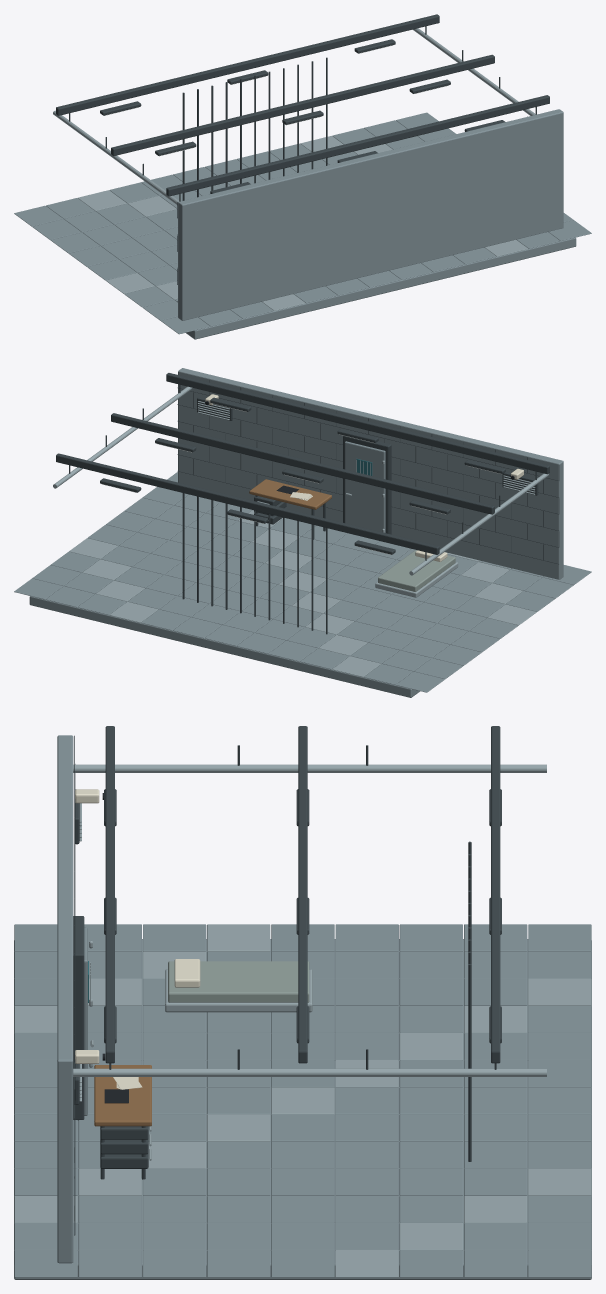
The model's file is cell.glb.
3 renders of one model, top to bottom at view 1: azimuth 30°, elevation 25°; view 2: azimuth 150°, elevation 25°; view 3: azimuth 270°, elevation 25°, orthographic. The views are drawn at different scales.
Parts seen in each view (by area): view 1: cell-blue painted masonry, cell-forged graphite steel, cell-galvanized edges; view 2: cell-blue painted masonry, cell-forged graphite steel, cell-galvanized edges, cell-cotton mattress, cell-worn oak, cell-aged paper; view 3: cell-blue painted masonry, cell-galvanized edges, cell-forged graphite steel, cell-cotton mattress, cell-worn oak, cell-aged paper.
Part boxes in pixels (x1,y1,x2,y2): cell-blue painted masonry: [14, 109, 591, 339]; cell-forged graphite steel: [56, 14, 549, 301]; cell-galvanized edges: [53, 28, 535, 310]; cell-blue painted masonry: [14, 368, 591, 697]; cell-forged graphite steel: [56, 373, 559, 634]; cell-galvanized edges: [53, 386, 548, 677]; cell-cotton mattress: [378, 550, 455, 591]; cell-worn oak: [249, 479, 331, 509]; cell-aged paper: [205, 394, 523, 561]; cell-blue painted masonry: [14, 735, 591, 1279]; cell-galvanized edges: [14, 764, 591, 1277]; cell-forged graphite steel: [73, 726, 501, 1235]; cell-cotton mattress: [168, 961, 309, 1002]; cell-worn oak: [94, 1065, 151, 1126]; cell-aged paper: [75, 789, 200, 1089].
Size of the model in its own units: 12.99 by 3.94 by 9.
